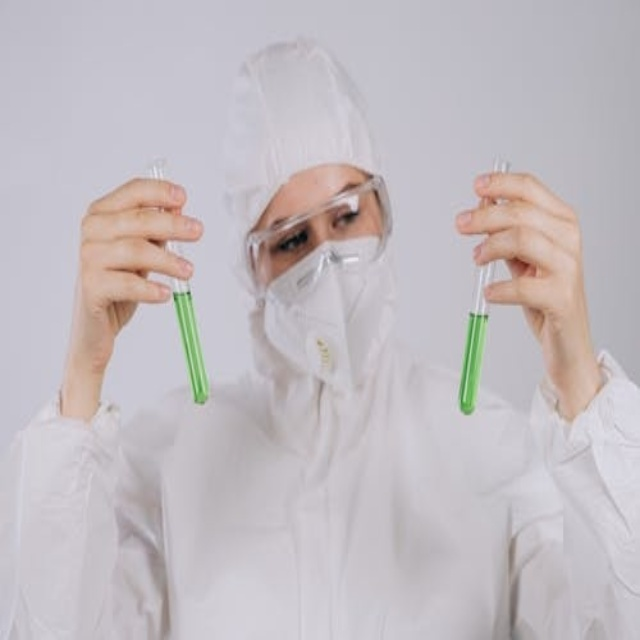Gafas: (243, 176, 391, 303)
Mascara: (256, 227, 398, 404)
Sin_guantes: (447, 152, 607, 400), (66, 173, 203, 385)
